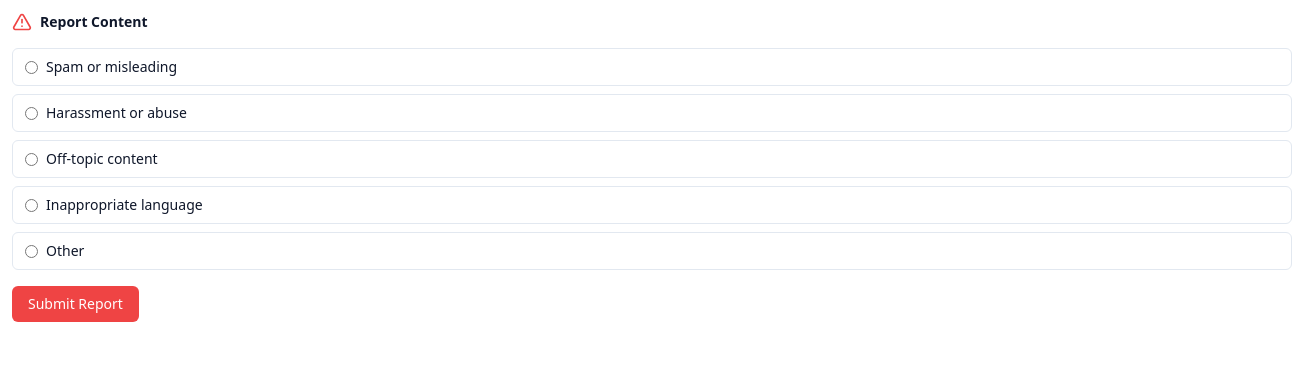
FlagForm › shows error when submitting without a reason
The width and height of the screenshot is (1292, 372).
Click the button with test id "flag-submit-btn": (75, 304) [12,286,139,322]
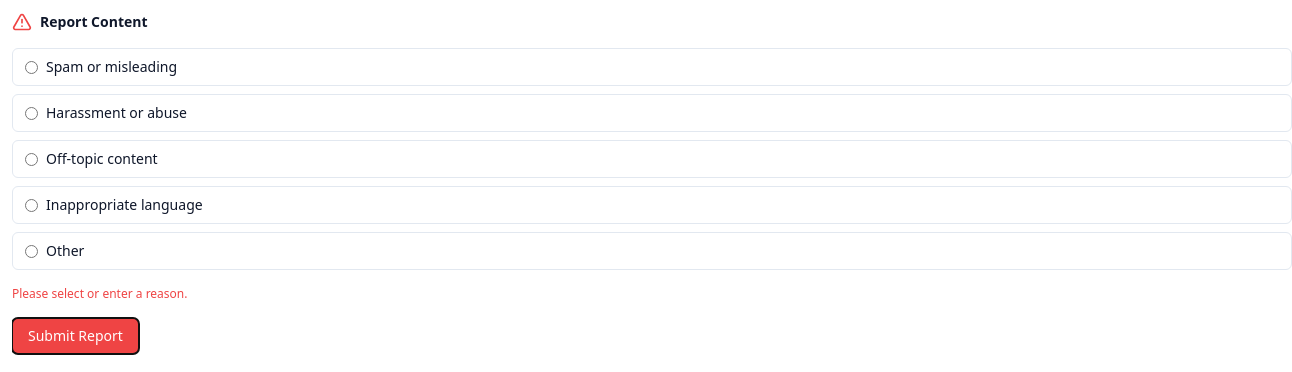
Expected: the text with test id "flag-error" reads "Please select or enter a reason.", [12,285,188,302]
